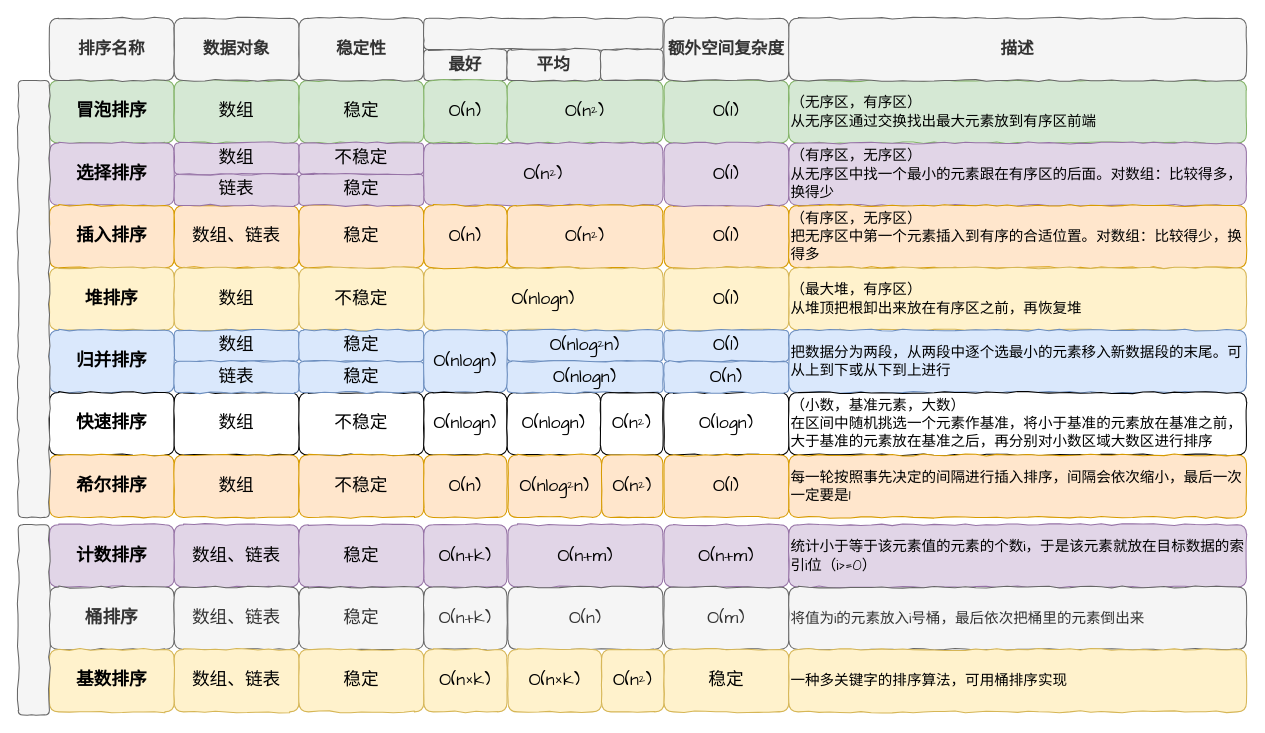
This 1265x733 diagram has some shape labels left out. Each missing label, with the box of its shape:
时间复杂度: (423, 17, 663, 49)
最坏: (600, 48, 663, 81)
比较类排序: (17, 80, 49, 517)
非比较排序: (17, 524, 49, 715)
